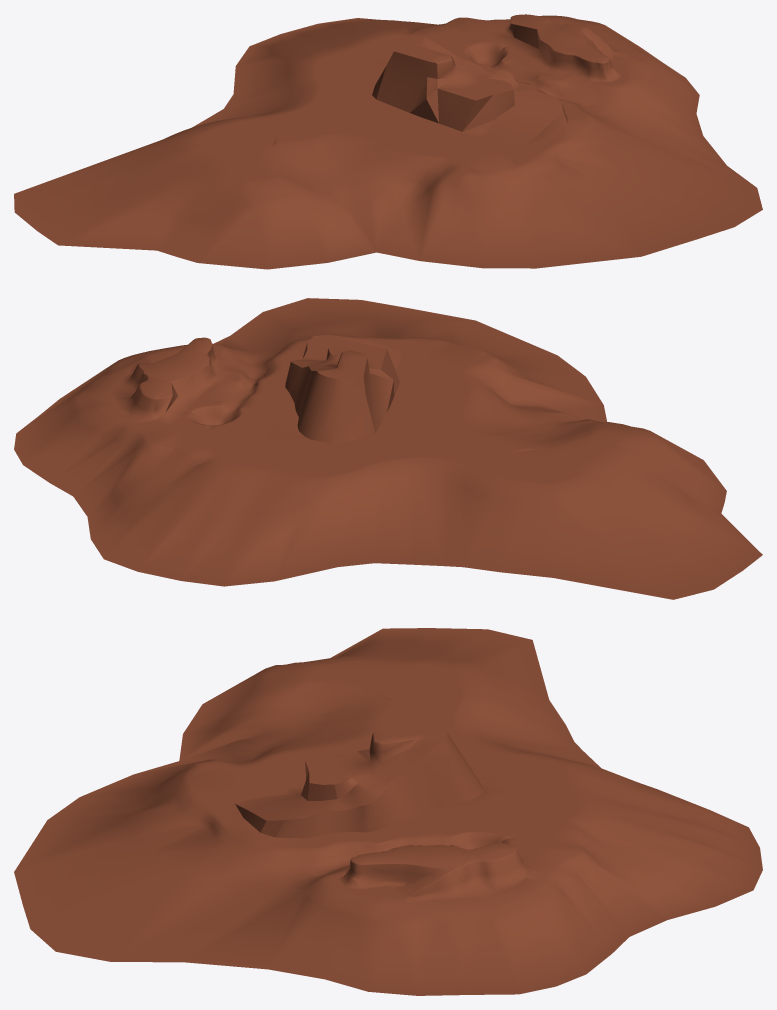
Rendered from Island.fbx.
The picture shows the model from 3 angles, top to bottom: view 1: azimuth 30°, elevation 25°; view 2: azimuth 150°, elevation 25°; view 3: azimuth 270°, elevation 25°; orthographic projection. The views are drawn at different scales.
Visible parts, largest first — view 1: Shape001; view 2: Shape001; view 3: Shape001.
Boxes of the visible parts, x1,y1,x2,y2 form: Shape001: (14, 14, 762, 269); Shape001: (14, 298, 762, 599); Shape001: (14, 628, 762, 995).
Size of the model in its own units: 208 by 179 by 29.05.
